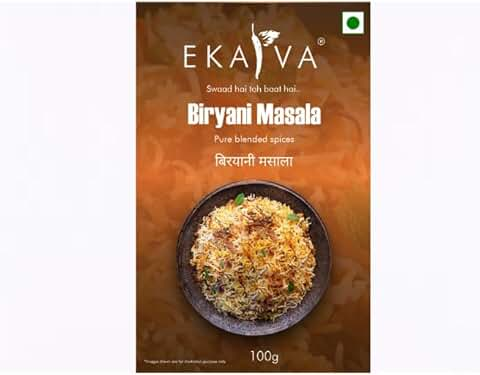Biryani: (134, 2, 373, 375)
